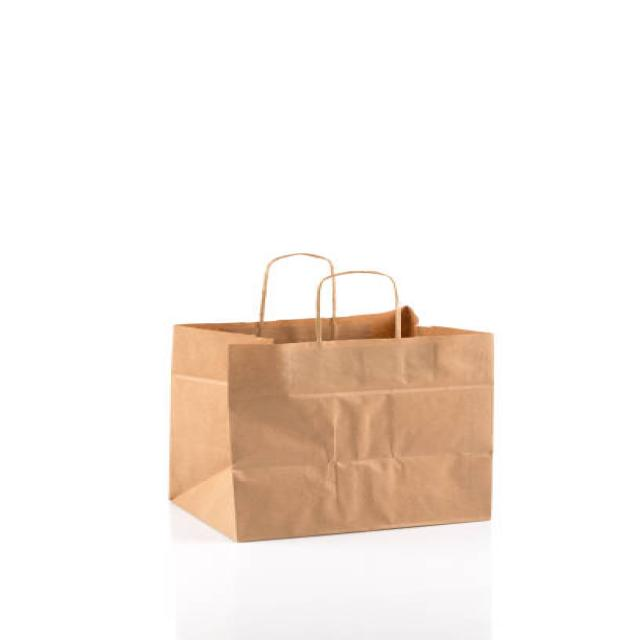electronic: (168, 255, 494, 542)
